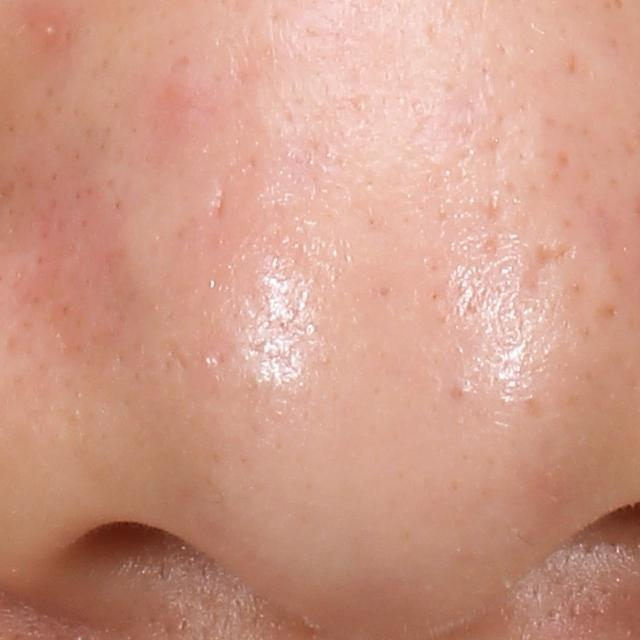atrophic_scar: (208, 154, 257, 232), (521, 235, 579, 298)
